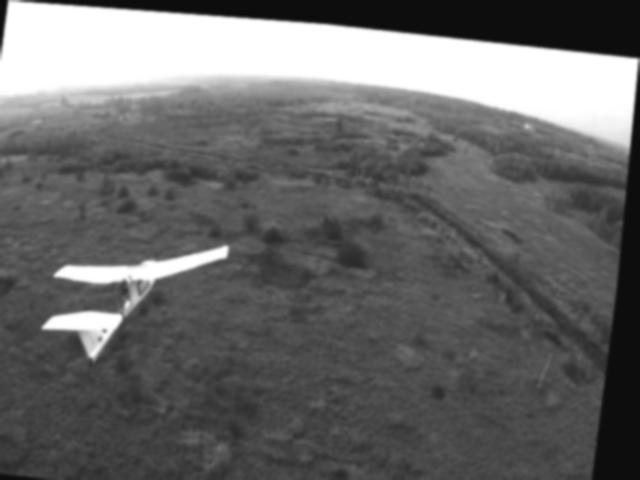hedef: (31, 216, 235, 390)
